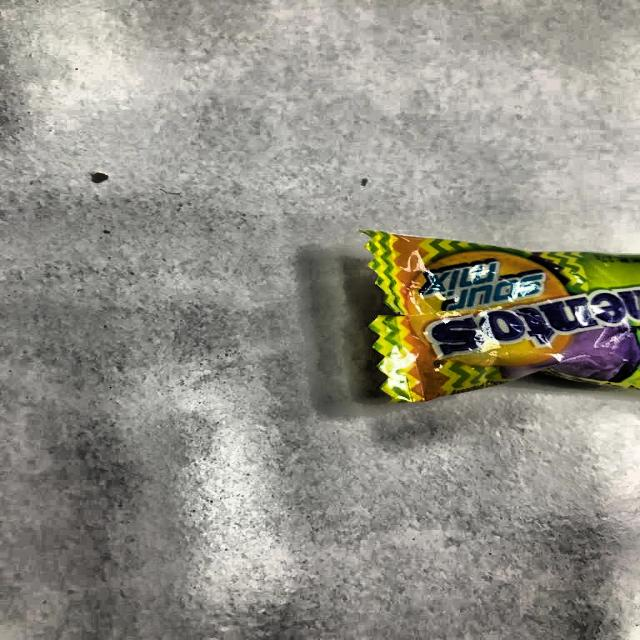Plastic: (365, 225, 640, 402)
